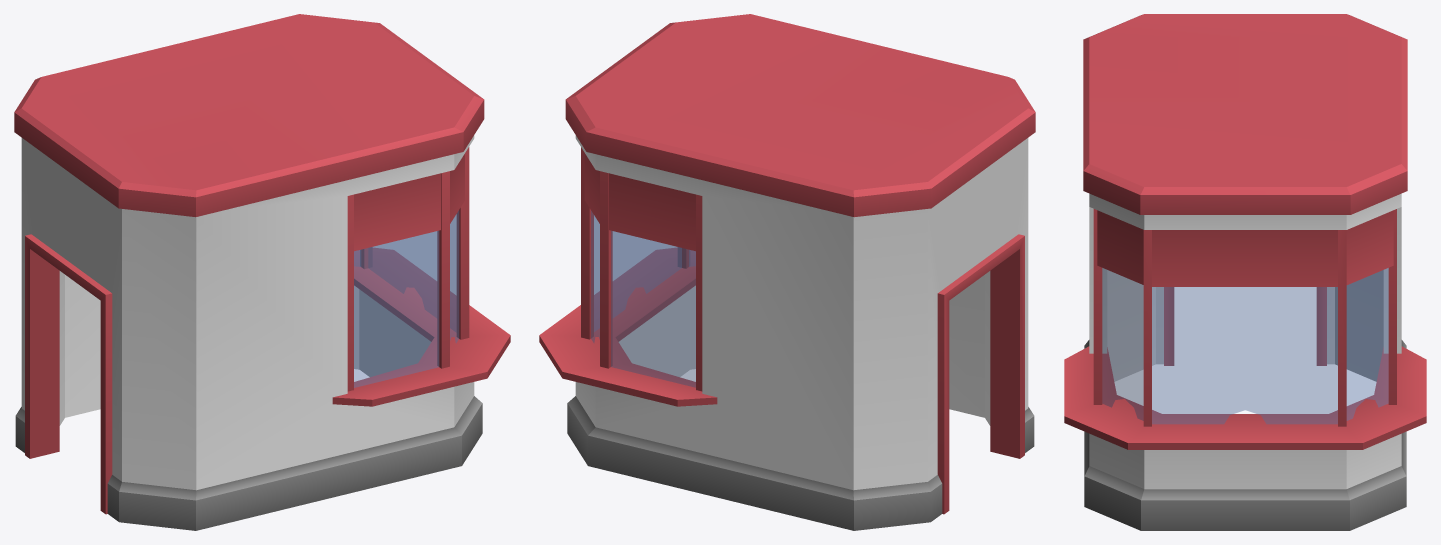
3 views of the same model, side by side, from view 1: azimuth 30°, elevation 25°; view 2: azimuth 150°, elevation 25°; view 3: azimuth 270°, elevation 25° (orthographic).
Visible parts, largest first — view 1: TicketBooth; view 2: TicketBooth; view 3: TicketBooth.
Boxes of the visible parts, x1,y1,x2,y2 form: TicketBooth: (14, 14, 510, 530); TicketBooth: (539, 14, 1035, 530); TicketBooth: (1064, 14, 1426, 530).
Bounding box in the file's own units: 4.07 × 3.4 × 3.28.
